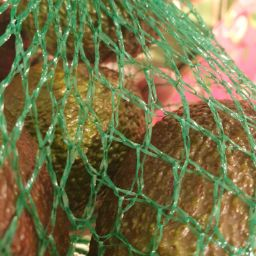Avocado: (124, 103, 256, 256), (7, 58, 152, 160), (1, 123, 91, 256)
